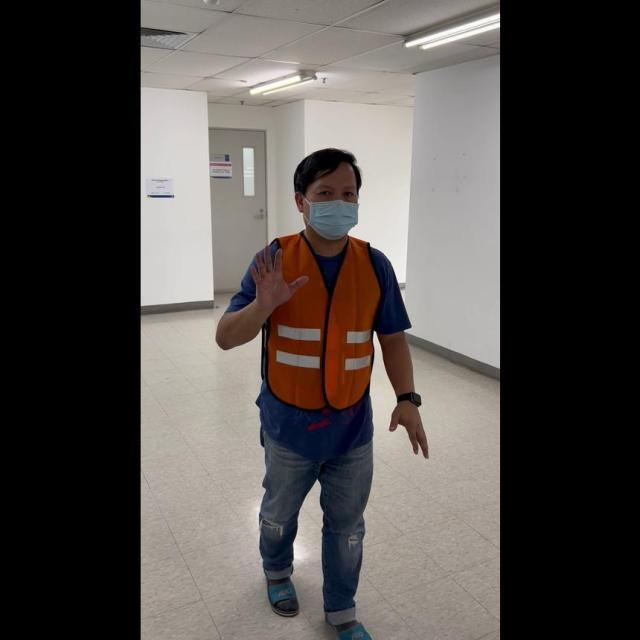bare_hand: (247, 240, 305, 309), (386, 395, 429, 458)
